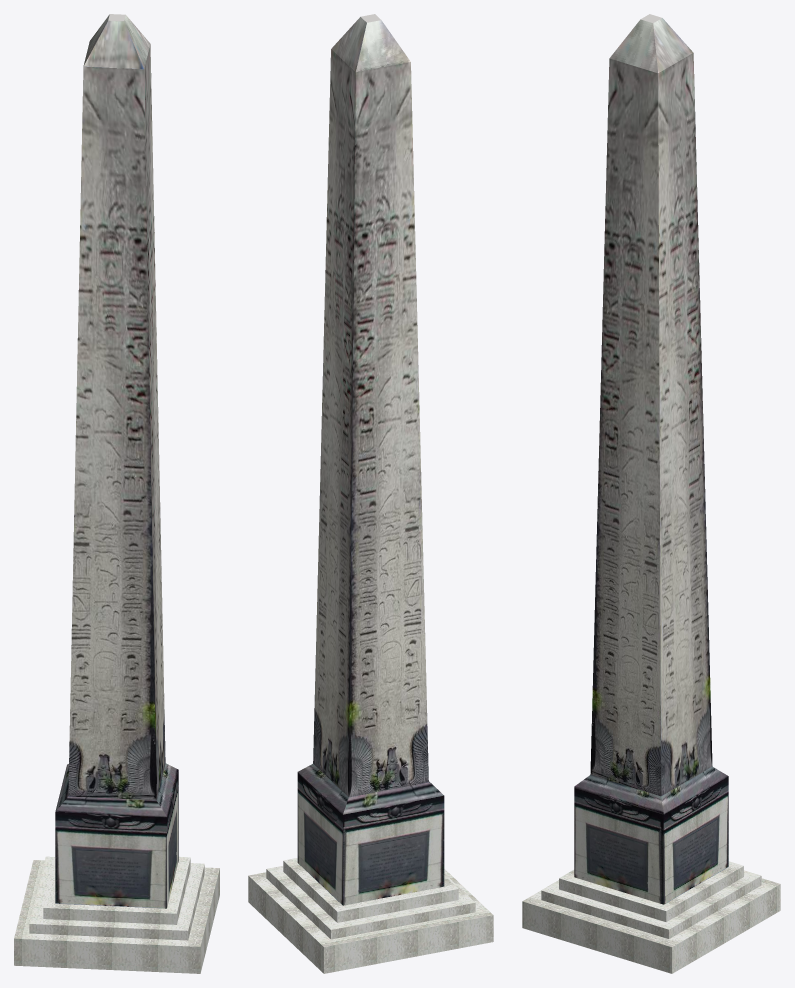
File: Cleopatras-Needle-London.dae
3 renders of one model, left to right at view 1: azimuth 30°, elevation 25°; view 2: azimuth 150°, elevation 25°; view 3: azimuth 270°, elevation 25°, orthographic.
Parts seen in each view (by area): view 1: SketchUp (×4); view 2: SketchUp (×4); view 3: SketchUp (×4).
Part boxes in pixels (x1,y1,x2,y2): SketchUp (×4): [14, 14, 219, 973]; SketchUp (×4): [248, 17, 493, 973]; SketchUp (×4): [522, 18, 780, 973].
Bounding box in the file's own units: 242 × 242 × 930.
